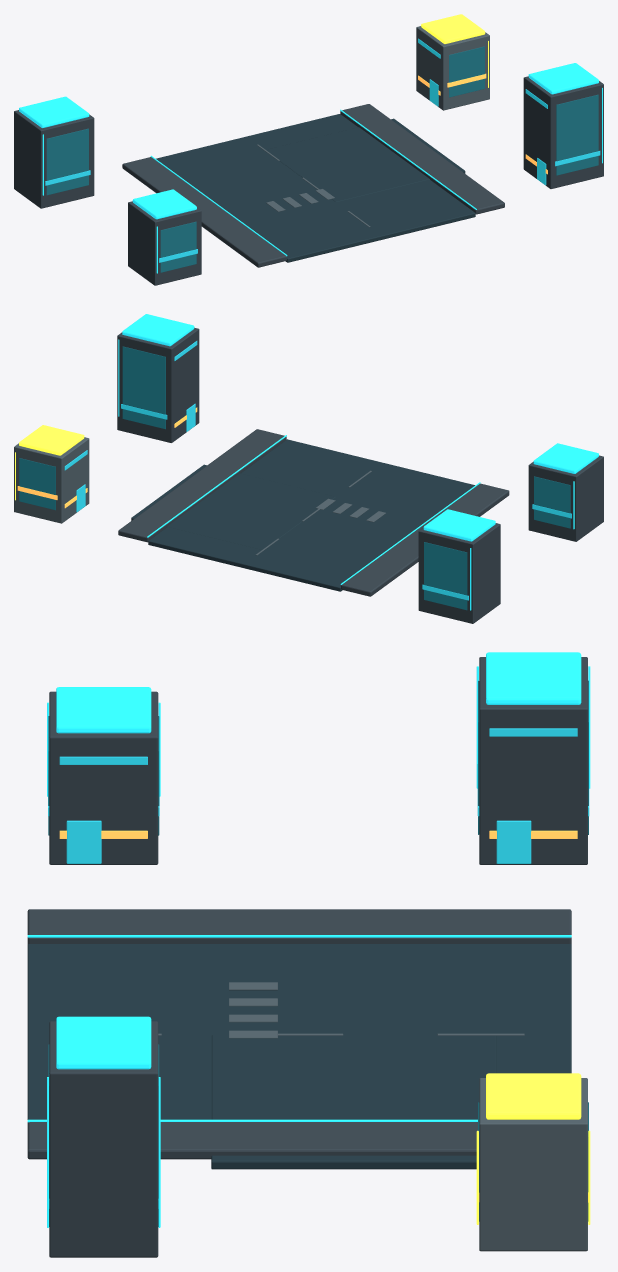
Rendered from corner_left_lod2.glb.
3 views of the same model, one above another, from view 1: azimuth 30°, elevation 25°; view 2: azimuth 150°, elevation 25°; view 3: azimuth 270°, elevation 25° (orthographic). The views are drawn at different scales.
Visible parts, largest first — view 1: ND_Batch_ND_WetAsphalt, ND_Batch_ND_CityConcrete, ND_Batch_ND_RoadEdge, ND_Batch_ND_DarkGlass, ND_Batch_ND_CityCyanMuted, ND_Batch_ND_CityConcreteLight, ND_Batch_ND_NeonGlass, ND_Batch_ND_PackageGold; view 2: ND_Batch_ND_WetAsphalt, ND_Batch_ND_CityConcrete, ND_Batch_ND_DarkGlass, ND_Batch_ND_RoadEdge, ND_Batch_ND_CityCyanMuted, ND_Batch_ND_CityConcreteLight, ND_Batch_ND_NeonGlass, ND_Batch_ND_PackageGold; view 3: ND_Batch_ND_WetAsphalt, ND_Batch_ND_CityConcrete, ND_Batch_ND_RoadEdge, ND_Batch_ND_CityCyanMuted, ND_Batch_ND_CityConcreteLight, ND_Batch_ND_PackageGold, ND_Batch_ND_NeonGlass, ND_Batch_ND_DarkGlass, ND_Batch_ND_WarmWindow.
Boxes of the visible parts, left/top/right/bottom form: ND_Batch_ND_WetAsphalt: left=156, top=114, right=475, bottom=262; ND_Batch_ND_CityConcrete: left=14, top=76, right=603, bottom=285; ND_Batch_ND_RoadEdge: left=122, top=104, right=504, bottom=267; ND_Batch_ND_DarkGlass: left=46, top=46, right=598, bottom=272; ND_Batch_ND_CityCyanMuted: left=19, top=63, right=602, bottom=273; ND_Batch_ND_CityConcreteLight: left=257, top=26, right=489, bottom=227; ND_Batch_ND_NeonGlass: left=45, top=38, right=600, bottom=262; ND_Batch_ND_PackageGold: left=421, top=14, right=488, bottom=87; ND_Batch_ND_WetAsphalt: left=131, top=439, right=474, bottom=591; ND_Batch_ND_CityConcrete: left=117, top=327, right=603, bottom=623; ND_Batch_ND_DarkGlass: left=19, top=346, right=570, bottom=610; ND_Batch_ND_RoadEdge: left=118, top=429, right=509, bottom=596; ND_Batch_ND_CityCyanMuted: left=118, top=314, right=598, bottom=610; ND_Batch_ND_CityConcreteLight: left=14, top=437, right=385, bottom=555; ND_Batch_ND_NeonGlass: left=64, top=341, right=571, bottom=600; ND_Batch_ND_PackageGold: left=15, top=425, right=84, bottom=500; ND_Batch_ND_WetAsphalt: left=27, top=944, right=571, bottom=1169; ND_Batch_ND_CityConcrete: left=49, top=657, right=587, bottom=1257; ND_Batch_ND_RoadEdge: left=27, top=909, right=571, bottom=1159; ND_Batch_ND_CityCyanMuted: left=27, top=652, right=590, bottom=1227; ND_Batch_ND_CityConcreteLight: left=158, top=982, right=587, bottom=1251; ND_Batch_ND_PackageGold: left=476, top=1073, right=590, bottom=1224; ND_Batch_ND_NeonGlass: left=48, top=728, right=589, bottom=1208; ND_Batch_ND_DarkGlass: left=48, top=680, right=588, bottom=1226; ND_Batch_ND_WarmWindow: left=59, top=830, right=588, bottom=1202.
Size of the model in its own units: 38.7 by 8.15 by 20.69.
